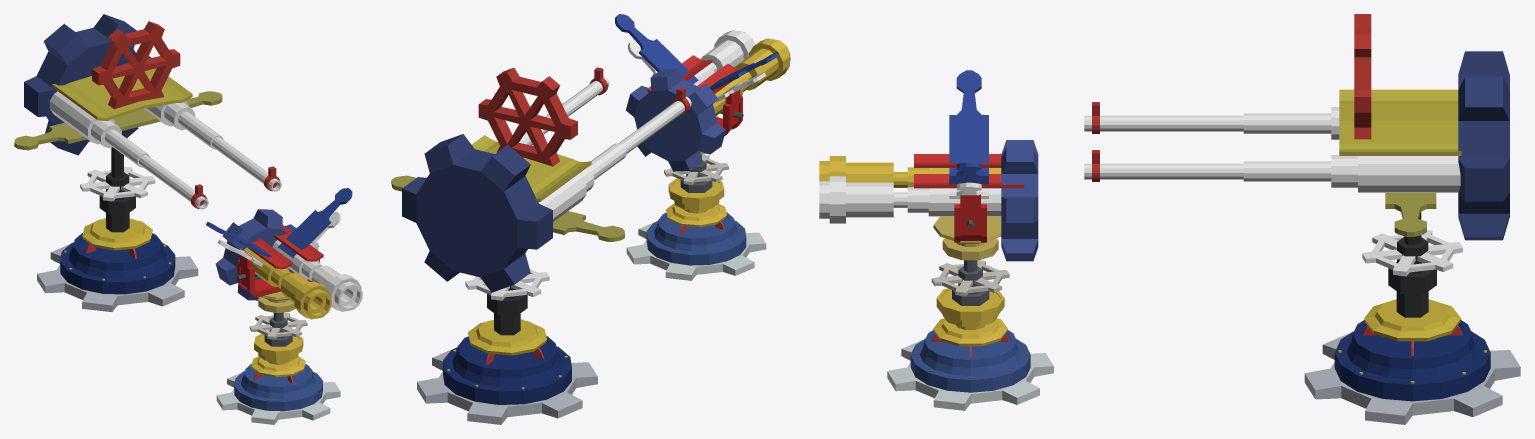
Rendered from Sub Water Set 4.fbx.
3 views of the same model, side by side, from view 1: azimuth 30°, elevation 25°; view 2: azimuth 150°, elevation 25°; view 3: azimuth 270°, elevation 25° (orthographic). The views are drawn at different scales.
Visible parts, largest first — view 1: Gun_8_Gun.004, Bomber_1_Base.009, Gun_8_Base.001, Bomber_1_Base.008; view 2: Gun_8_Gun.004, Bomber_1_Base.009, Gun_8_Base.001, Bomber_1_Base.008; view 3: Gun_8_Gun.004, Bomber_1_Base.009, Gun_8_Base.001, Bomber_1_Base.008.
Boxes of the visible parts, <box> form: Gun_8_Gun.004: <box>14,14,281,232</box>; Bomber_1_Base.009: <box>206,188,362,377</box>; Gun_8_Base.001: <box>37,218,198,311</box>; Bomber_1_Base.008: <box>216,363,340,424</box>; Gun_8_Gun.004: <box>391,67,691,335</box>; Bomber_1_Base.009: <box>615,14,790,227</box>; Gun_8_Base.001: <box>417,319,597,424</box>; Bomber_1_Base.008: <box>626,212,766,280</box>; Gun_8_Gun.004: <box>1084,14,1509,317</box>; Bomber_1_Base.009: <box>819,70,1038,346</box>; Gun_8_Base.001: <box>1304,299,1520,424</box>; Bomber_1_Base.008: <box>887,330,1053,410</box>.
Size of the model in its own units: 10758 by 13326 by 23753.
